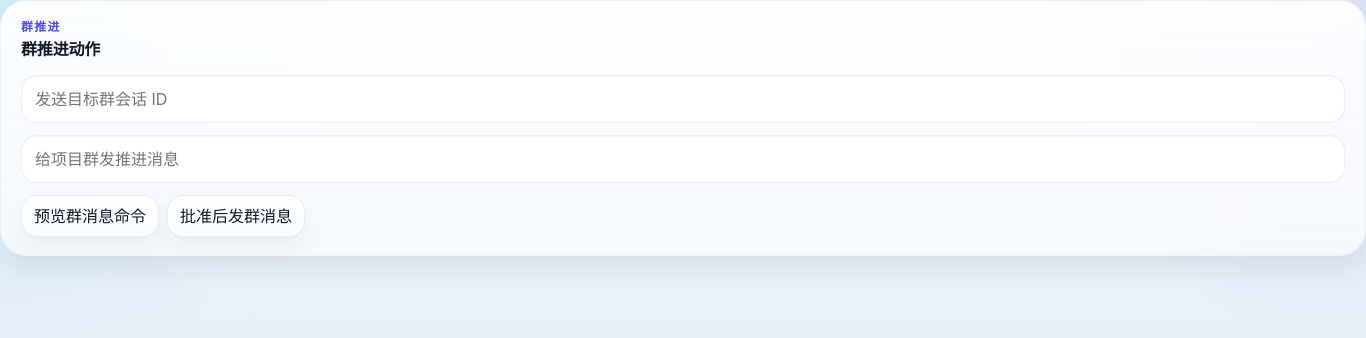
Test case: GroupMessagePanel › shows auto-repaired bot-route success copy when the backend repairs the route during send
The width and height of the screenshot is (1366, 338).
Step 1. Type "oc_demo_group" into the field with placeholder "发送目标群会话 ID" → (683, 99), box [21,75,1345,123]
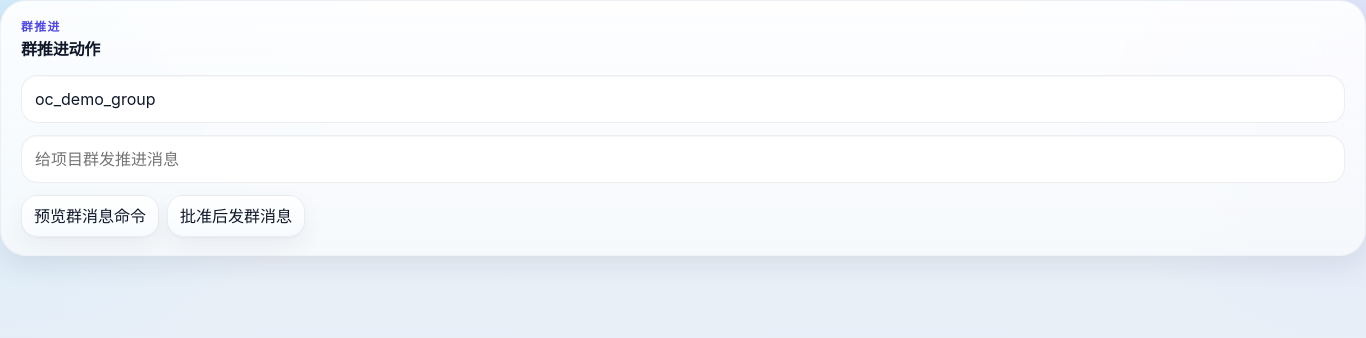
Step 2. Type "测试消息" into the field with placeholder "给项目群发推进消息" → (683, 159), box [21,135,1345,183]
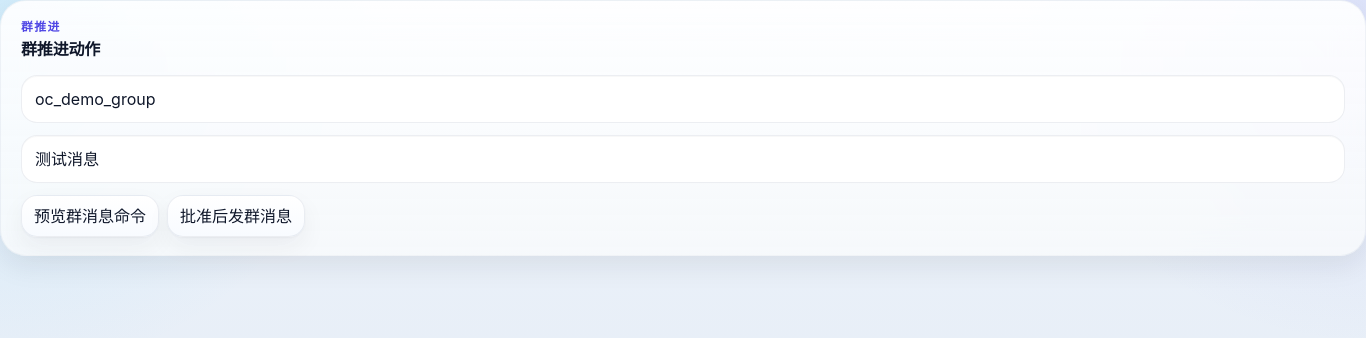
Step 3. Click the button "批准后发群消息" → click(236, 216), box [167,195,305,237]
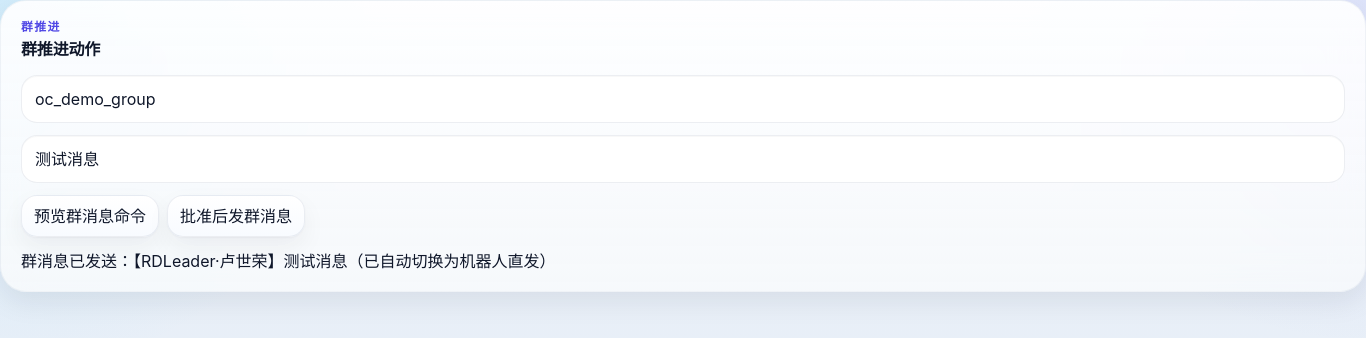
Expected: the text "群消息已发送：【RDLeader·卢世荣】测试消息（已自动切换为机器人直发）" is shown, [21,251,556,271]
